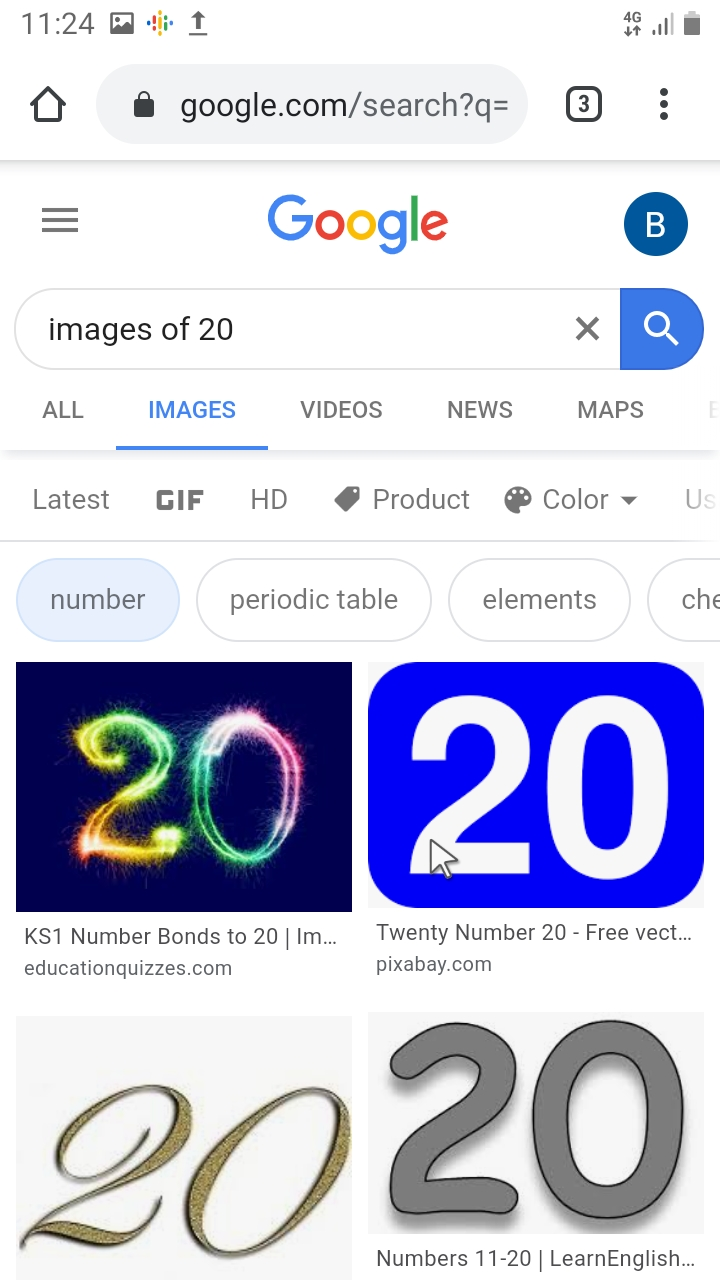20 kph: (17, 1059, 362, 1278), (384, 1021, 700, 1235), (392, 678, 690, 886), (47, 684, 317, 890)
